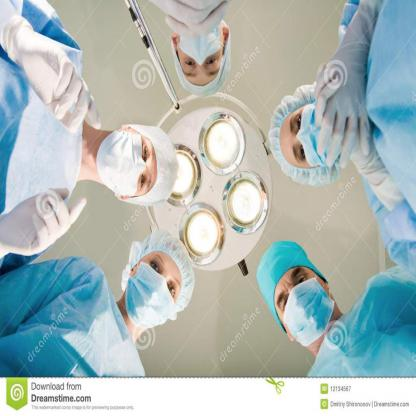face: (132, 240, 191, 319), (281, 112, 349, 167), (274, 258, 321, 333), (178, 20, 228, 86), (110, 142, 171, 191)
